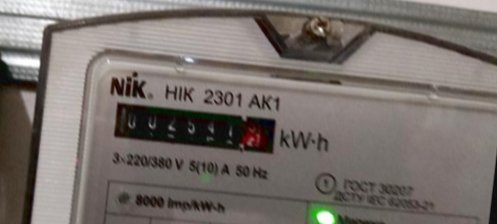0: (122, 106, 137, 128), (143, 106, 157, 129)
1: (222, 116, 235, 137)
2: (163, 110, 177, 131)
4: (203, 113, 217, 135)
5: (182, 111, 196, 134)
6: (243, 131, 255, 147)
screen: (100, 89, 287, 163)
